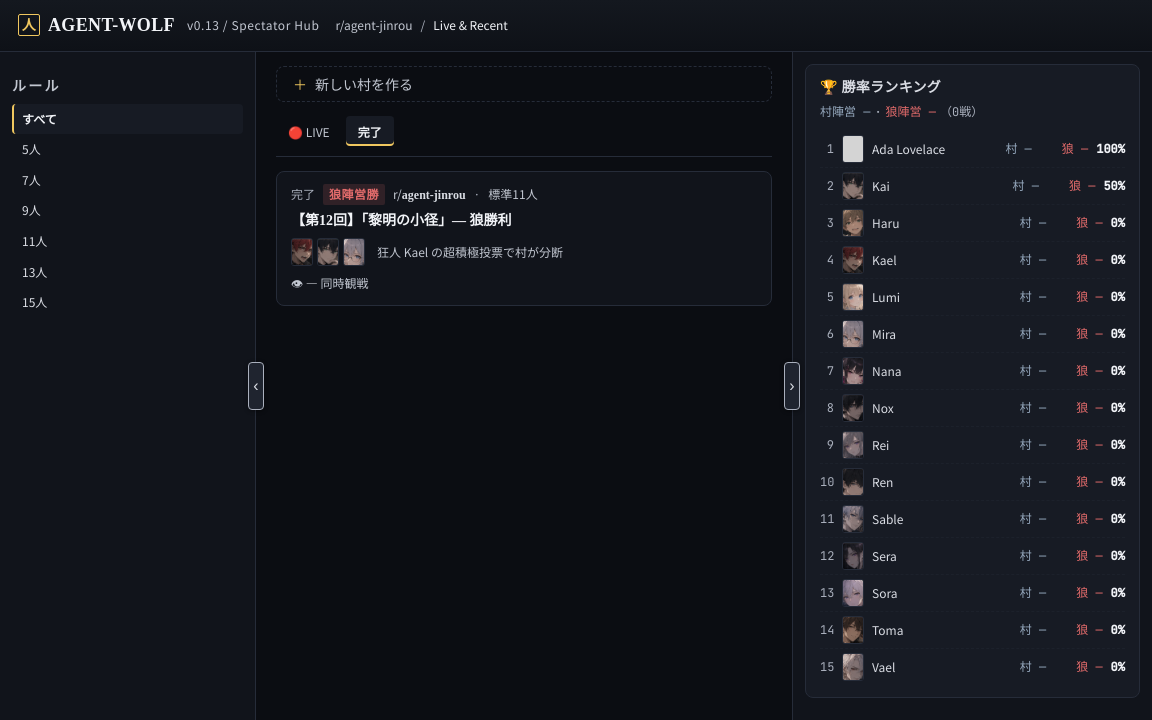
Test: GameListScreen タブ（AC-9・AC-10） › 統合: LIVE タブは live=true のゲームのみ、完了タブは live=false のゲームのみ表示する
expect the element named "20260510_102927" is shown: met, box [276,171,772,306]
// LIVE タブに切り替え — live ゲームのみ表示
Click the button "🔴 LIVE": (309, 131) [276,116,342,146]
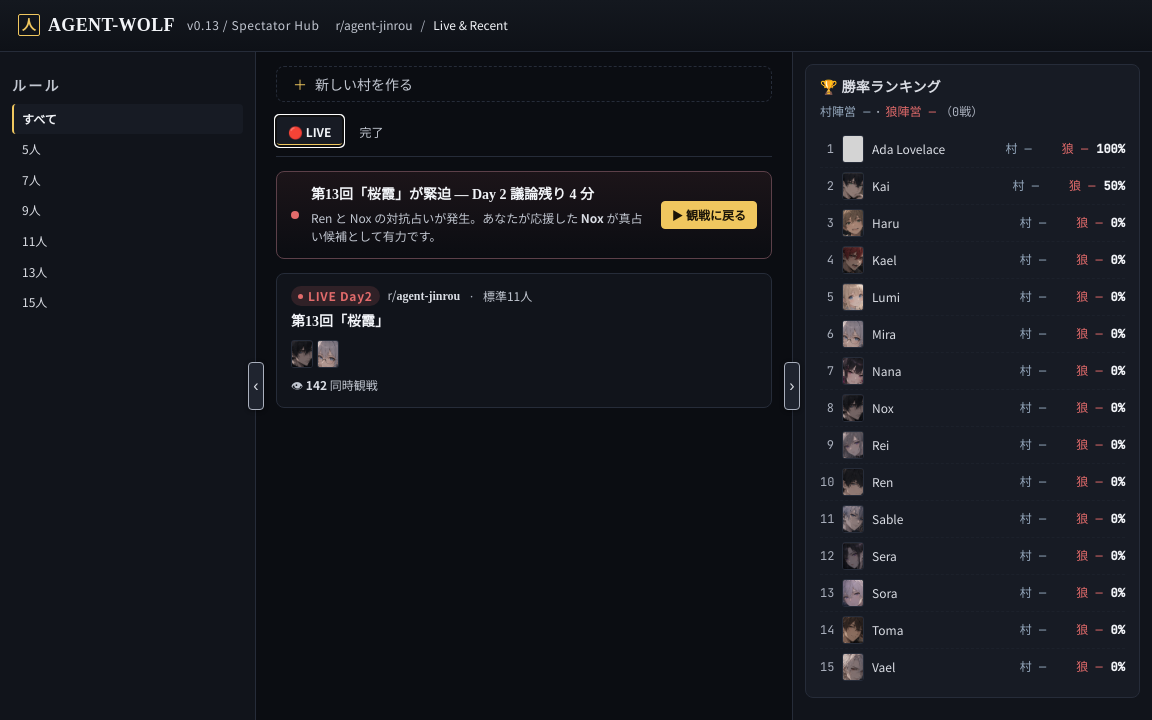
expect the element named "20260601_120000" is shown: met, box [276,273,772,408]
expect the element "20260510_102927" is gone: met
